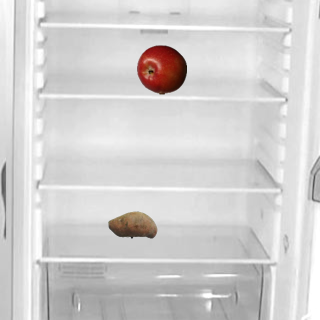Apple Braeburn: (136, 44, 186, 94)
Potato Sweet: (107, 199, 157, 249)
